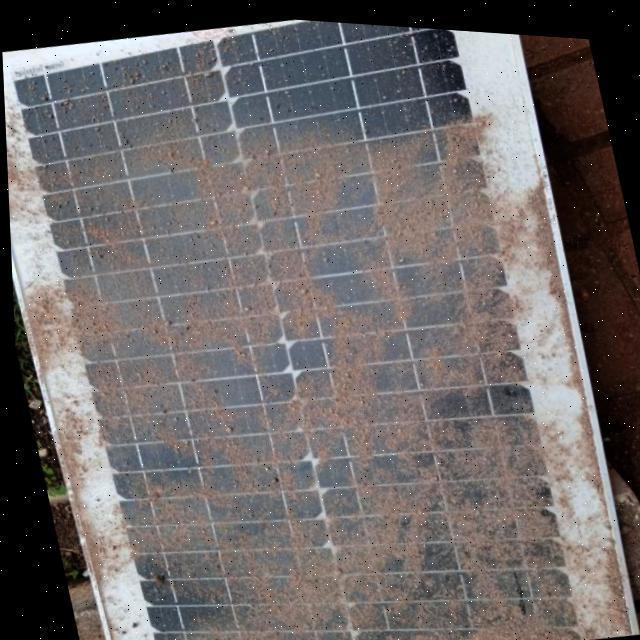Anomaly Solar Panel: (0, 0, 623, 640)
Surface Contaminant: (2, 15, 609, 640)
